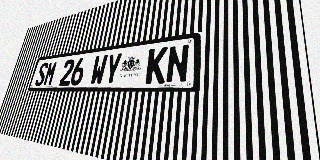2: (59, 59, 76, 86)
6: (69, 57, 87, 85)
K: (145, 47, 168, 84)
M: (43, 61, 58, 86)
N: (165, 44, 190, 83)
S: (34, 62, 49, 86)
W: (89, 54, 108, 85)
Y: (103, 52, 123, 85)
